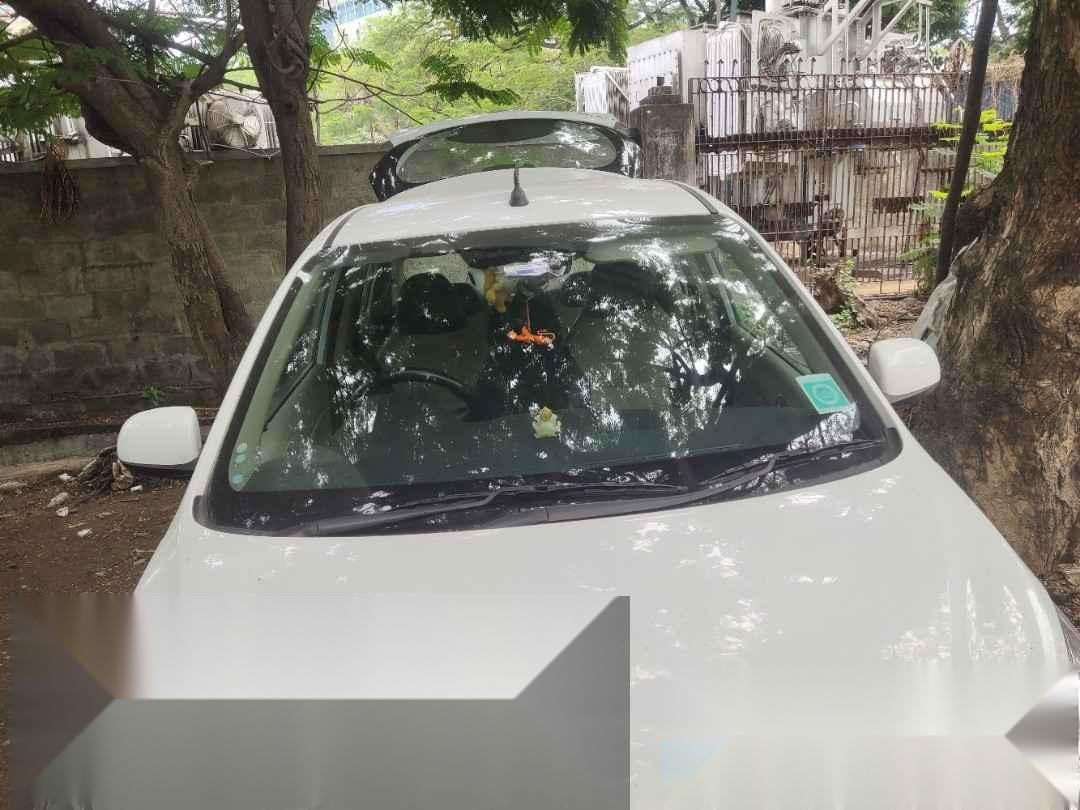FastTag: (489, 249, 572, 299)
not a FastTag: (800, 373, 851, 417)
